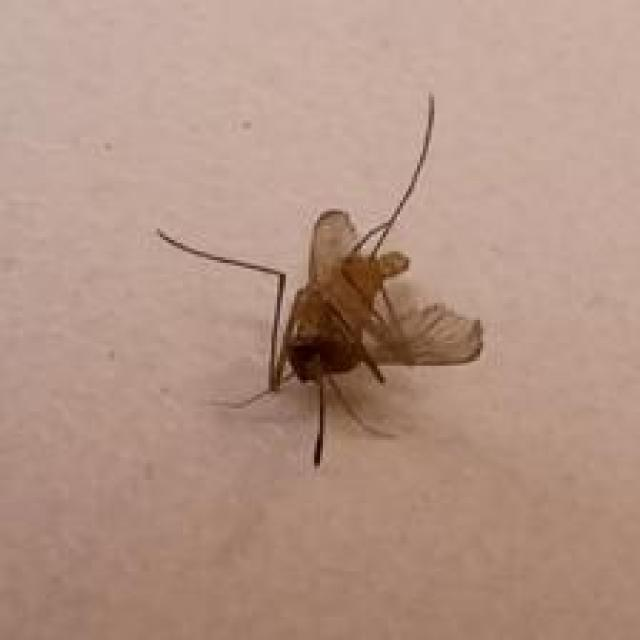Culex: (154, 90, 486, 470)
